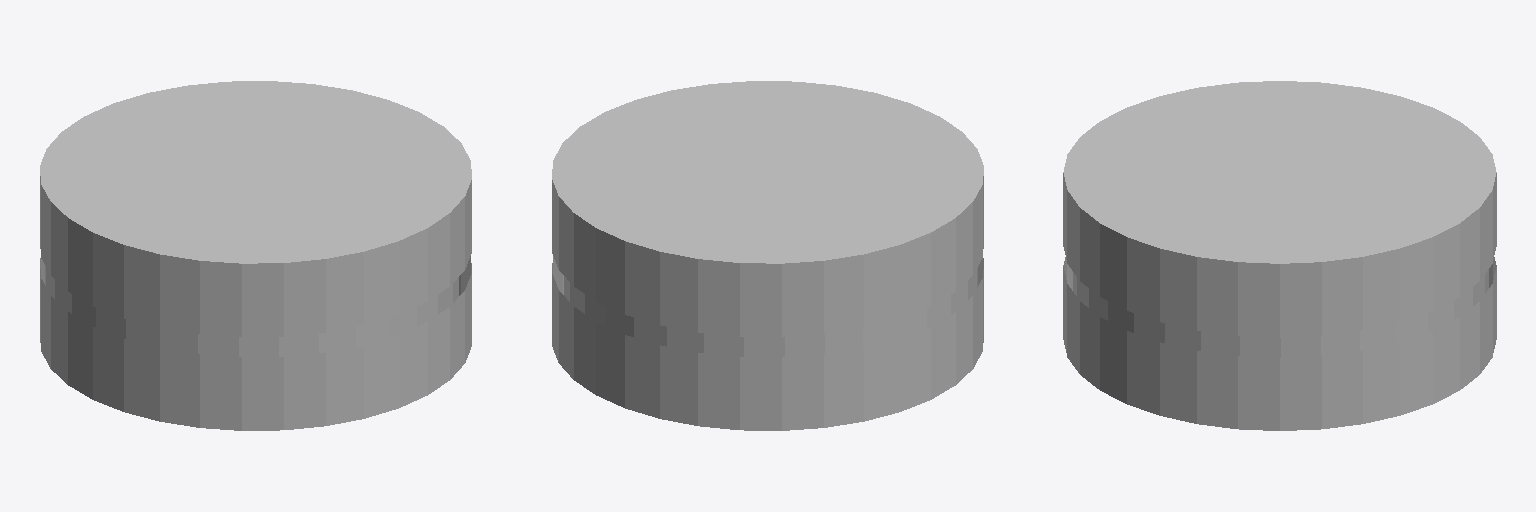
Rendered from camembert.obj.
3 views of the same model, side by side, from view 1: azimuth 30°, elevation 25°; view 2: azimuth 150°, elevation 25°; view 3: azimuth 270°, elevation 25° (orthographic).
Visible parts, largest first — view 1: objMesh; view 2: objMesh; view 3: objMesh.
Boxes of the visible parts, <box> form: objMesh: <box>40,81,471,430</box>; objMesh: <box>552,81,983,430</box>; objMesh: <box>1063,81,1496,430</box>.
Bounding box in the file's own units: 2 × 0.8519 × 2.